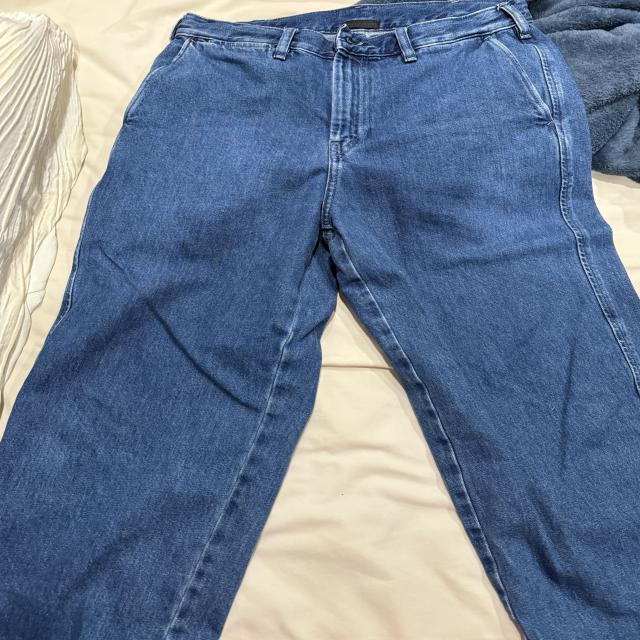back_tag: (334, 15, 394, 37)
